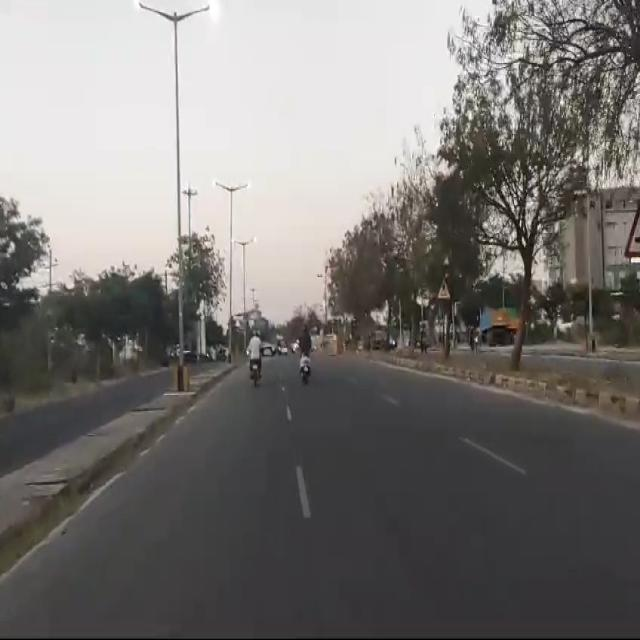bien_cam: (436, 274, 452, 300)
